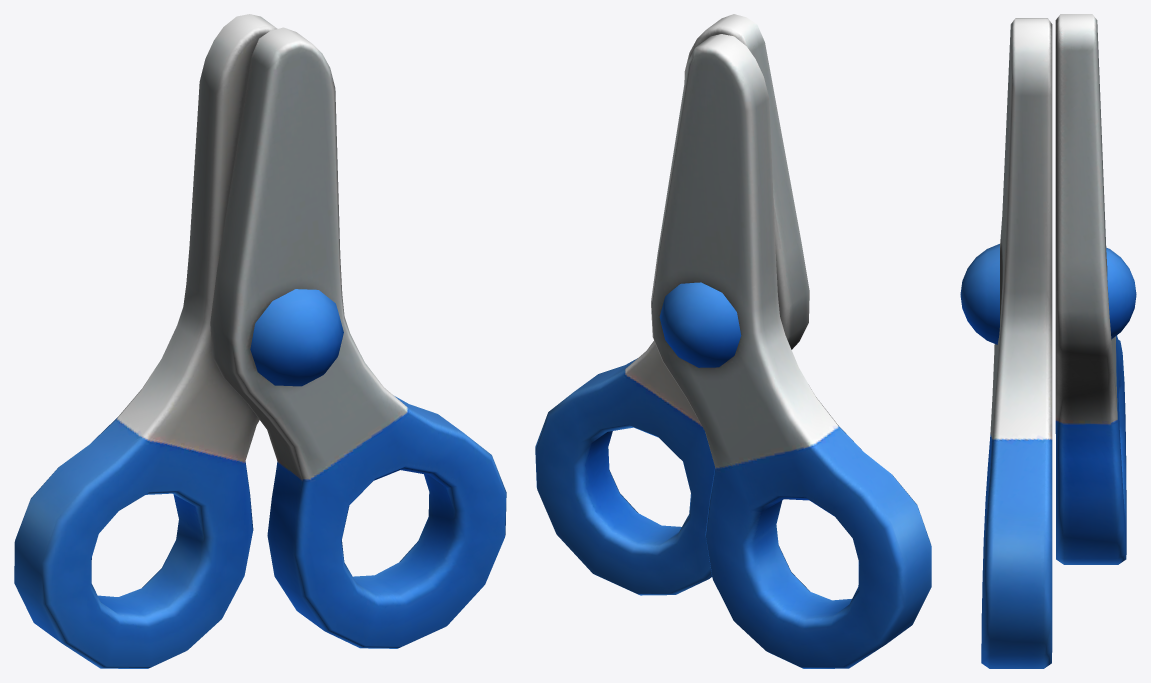
Rendered from 0-scissors_blue.fbx.
3 renders of one model, left to right at view 1: azimuth 30°, elevation 25°; view 2: azimuth 150°, elevation 25°; view 3: azimuth 270°, elevation 25°, orthographic. The views are drawn at different scales.
Visible parts, largest first — view 1: 0-scissors_blue; view 2: 0-scissors_blue; view 3: 0-scissors_blue.
Boxes of the visible parts, x1,y1,x2,y2 form: 0-scissors_blue: [14, 14, 506, 668]; 0-scissors_blue: [535, 14, 931, 668]; 0-scissors_blue: [960, 14, 1136, 668].
Bounding box in the file's own units: 70.65 × 98.09 × 26.4.
